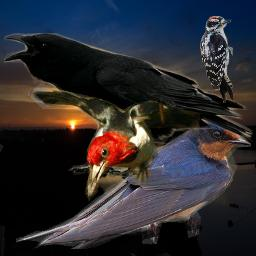Crow: (4, 33, 253, 179)
Swallow: (16, 115, 251, 249)
Woodpecker: (23, 80, 200, 201), (199, 16, 233, 103)
